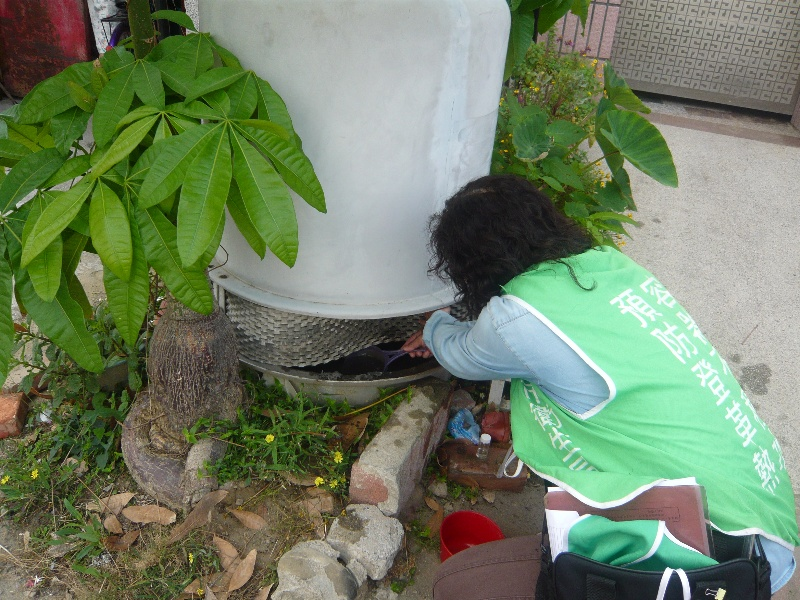water_tower: (197, 1, 511, 405)
